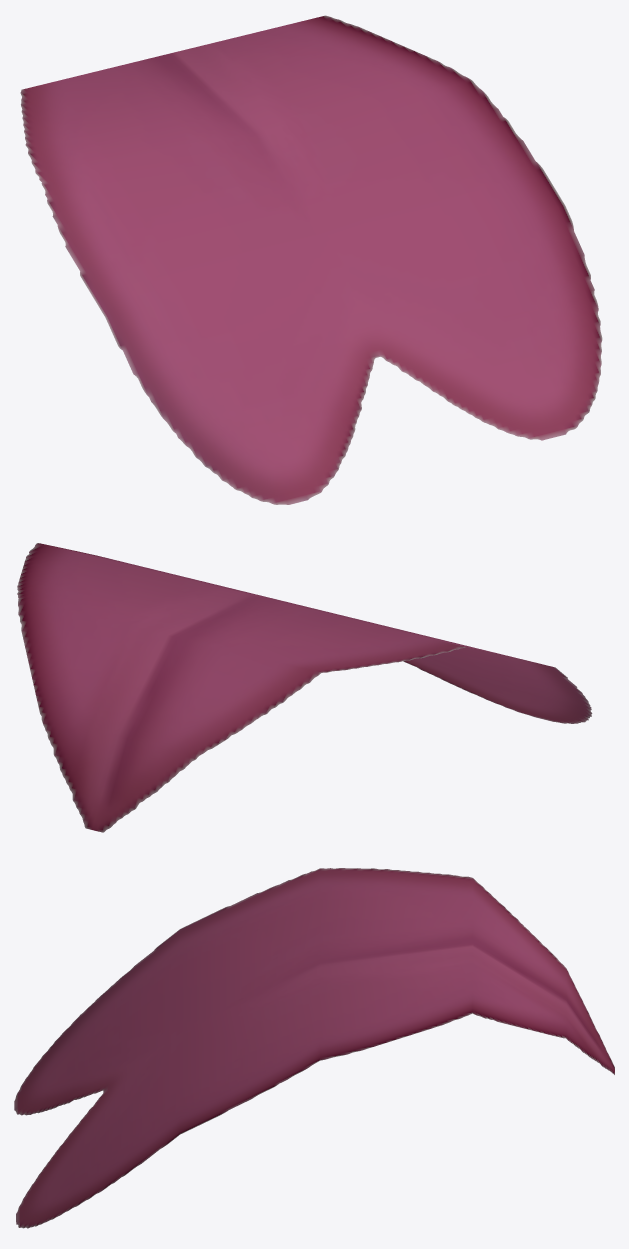
Rendered from PROP_Leaf_02_block.fbx.
The picture shows the model from 3 angles, top to bottom: view 1: azimuth 30°, elevation 25°; view 2: azimuth 150°, elevation 25°; view 3: azimuth 270°, elevation 25°; orthographic projection. The views are drawn at different scales.
Visible parts, largest first — view 1: PROP_Leaf_02_block; view 2: PROP_Leaf_02_block; view 3: PROP_Leaf_02_block.
Part boxes in pixels (x1=…): PROP_Leaf_02_block: x1=20, y1=15, x2=602, y2=504; PROP_Leaf_02_block: x1=17, y1=543, x2=592, y2=832; PROP_Leaf_02_block: x1=14, y1=868, x2=614, y2=1228.
Bounding box in the file's own units: 126 × 58.66 × 147.
1 material, 1 textured.
